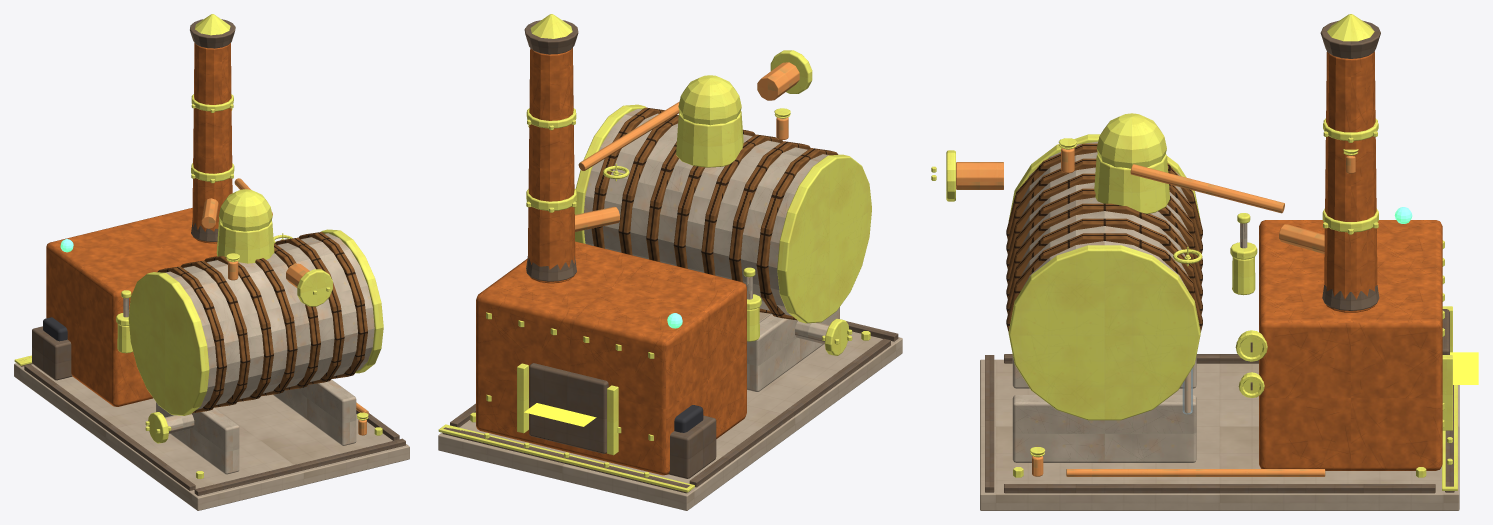
File: ff-boiler.glb
3 renders of one model, left to right at view 1: azimuth 30°, elevation 25°; view 2: azimuth 150°, elevation 25°; view 3: azimuth 270°, elevation 25°, orthographic. The views are drawn at different scales.
Visible parts, largest first — view 1: Firebox, Pad.006, Bolt.012, GrateFrame, Lag, PadLipN.006, DrumSaddleL, VentLip.008, PadPipe.006; view 2: Firebox, Bolt.012, GrateFrame, Pad.006, PadLipN.006, Lag, DrumSaddleL, PadPipe.006, VentLip.008, ValveStem.001, GlowFire.003, CoalHeap; view 3: Firebox, Bolt.012, Pad.006, Lag, DrumSaddleL, PadLipN.006, PadPipe.006, GrateFrame, VentLip.008, ValveStem.001, GlowFire.003.
Boxes of the visible parts, <box> form: Firebox: <box>46,42,232,406</box>; Pad.006: <box>14,363,409,510</box>; Bolt.012: <box>117,14,383,478</box>; GrateFrame: <box>123,233,374,433</box>; Lag: <box>157,232,367,413</box>; PadLipN.006: <box>21,19,405,495</box>; DrumSaddleL: <box>156,379,356,474</box>; VentLip.008: <box>121,109,368,420</box>; PadPipe.006: <box>201,178,368,435</box>; Firebox: <box>476,48,746,475</box>; Bolt.012: <box>470,14,871,477</box>; GrateFrame: <box>584,109,829,344</box>; Pad.006: <box>438,312,902,510</box>; PadLipN.006: <box>442,20,898,493</box>; Lag: <box>591,107,838,320</box>; DrumSaddleL: <box>747,307,839,391</box>; PadPipe.006: <box>575,62,799,231</box>; VentLip.008: <box>528,75,790,277</box>; ValveStem.001: <box>438,170,761,492</box>; GlowFire.003: <box>524,403,596,426</box>; CoalHeap: <box>674,405,703,432</box>; Firebox: <box>1259,51,1442,470</box>; Bolt.012: <box>931,14,1452,477</box>; Pad.006: <box>980,359,1459,510</box>; Lag: <box>1006,143,1202,332</box>; DrumSaddleL: <box>1012,355,1196,462</box>; PadLipN.006: <box>985,20,1454,493</box>; PadPipe.006: <box>956,148,1355,476</box>; GrateFrame: <box>1021,141,1247,288</box>; VentLip.008: <box>1030,113,1357,456</box>; ValveStem.001: <box>1185,242,1457,490</box>; GlowFire.003: <box>1450,352,1478,384</box>.
Size of the model in its own units: 2.04 by 3.19 by 3.43.
Materials: 15 (11 with a texture image).
